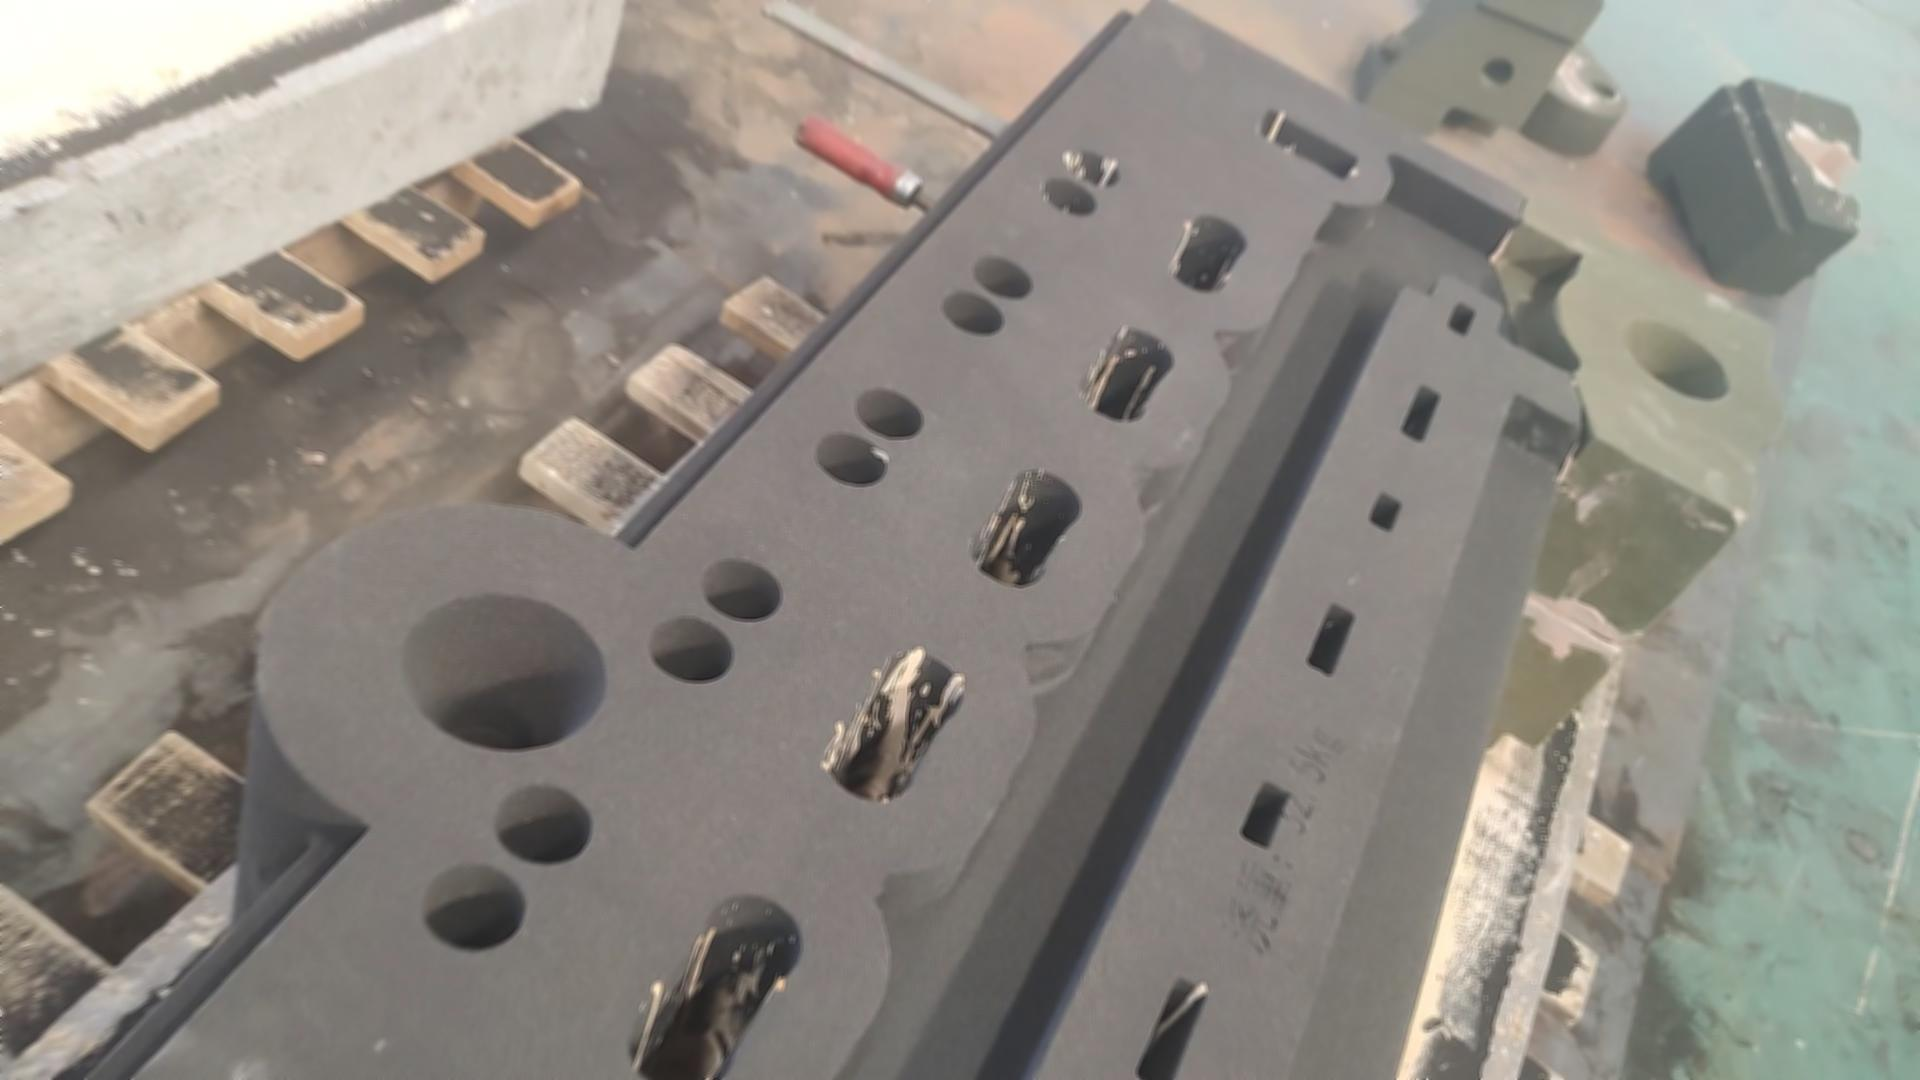pouring hole: (400, 593, 607, 752), (1621, 314, 1729, 401)
